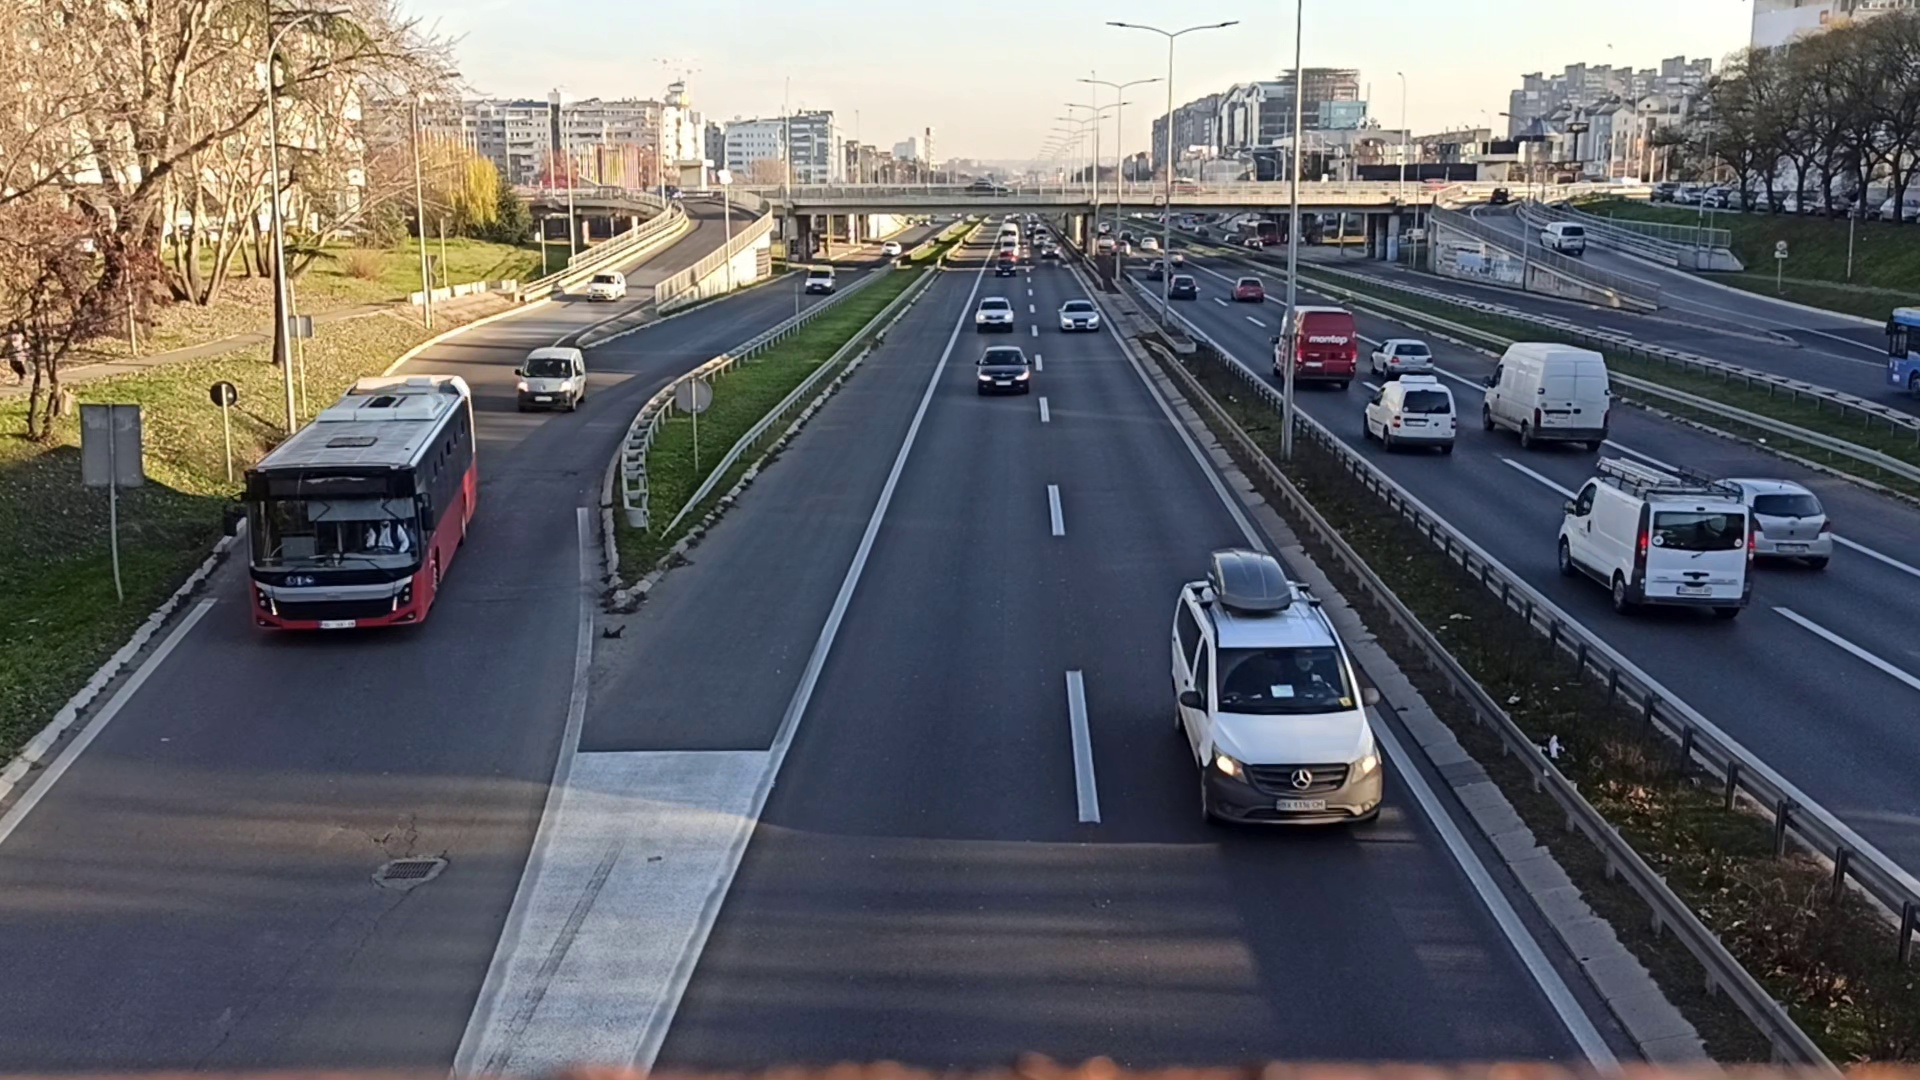bus: (244, 375, 479, 632)
car: (978, 345, 1031, 392), (1373, 338, 1433, 375), (1059, 301, 1100, 332), (975, 298, 1014, 328), (588, 272, 625, 303)
van: (1168, 550, 1385, 836), (1559, 463, 1754, 621), (1481, 340, 1611, 452), (1365, 377, 1458, 452), (1274, 306, 1356, 384), (516, 344, 585, 410)
